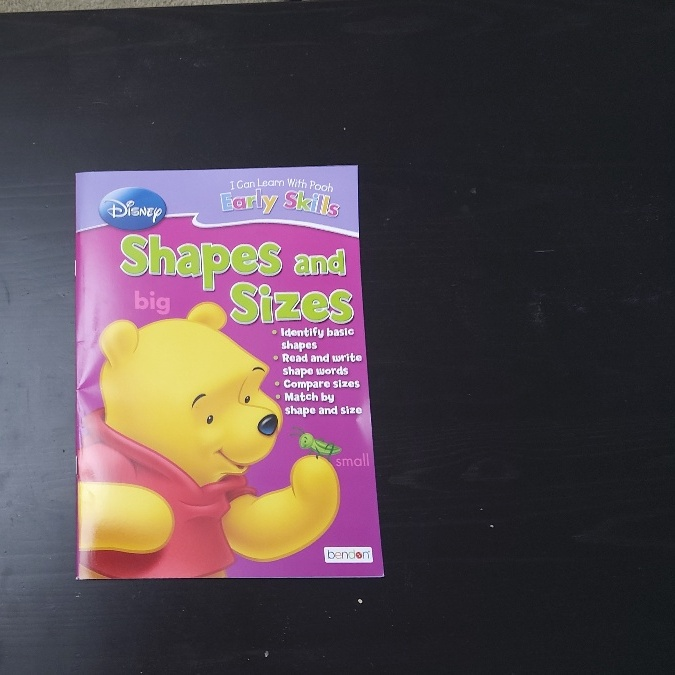book: (76, 164, 360, 579)
